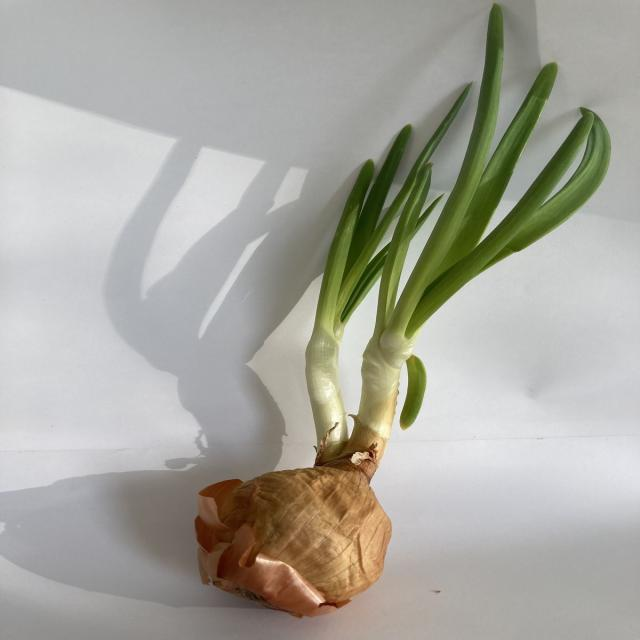sprouting: (201, 4, 601, 640)
